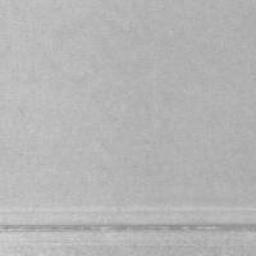Welding line: (0, 223, 256, 233)
